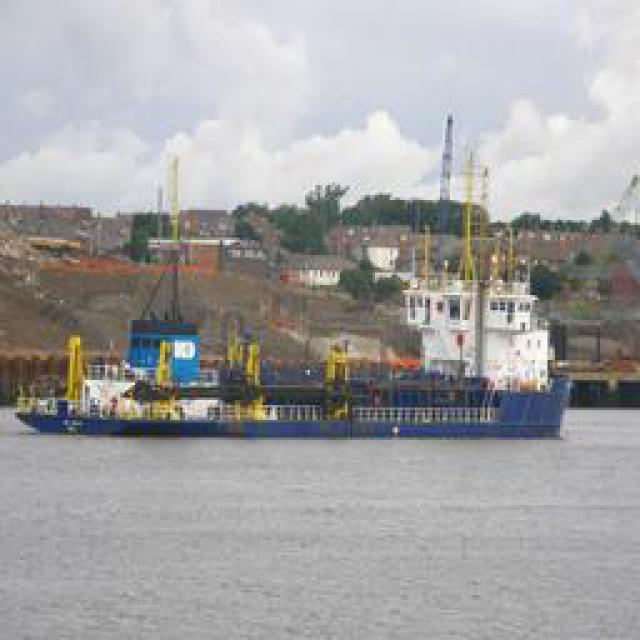Ship: (17, 365, 577, 443)
